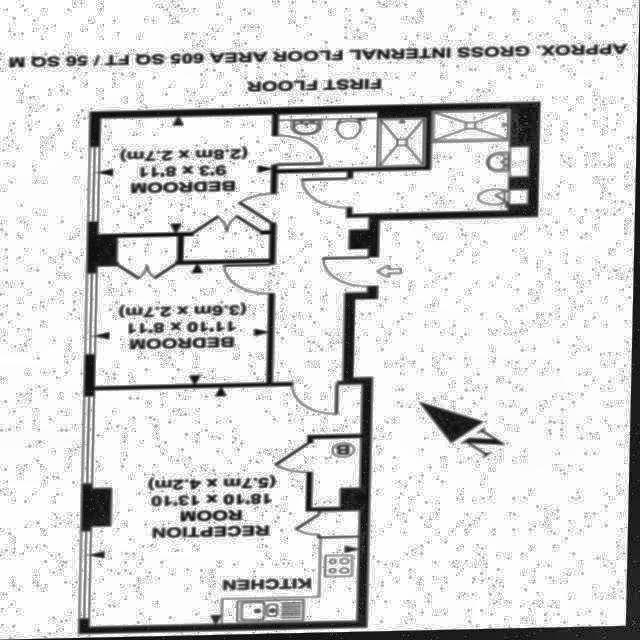room: (88, 386, 369, 627), (95, 264, 273, 388), (272, 171, 373, 387), (98, 116, 275, 235), (352, 111, 531, 216), (277, 114, 428, 171), (184, 235, 272, 262), (117, 237, 180, 262)
